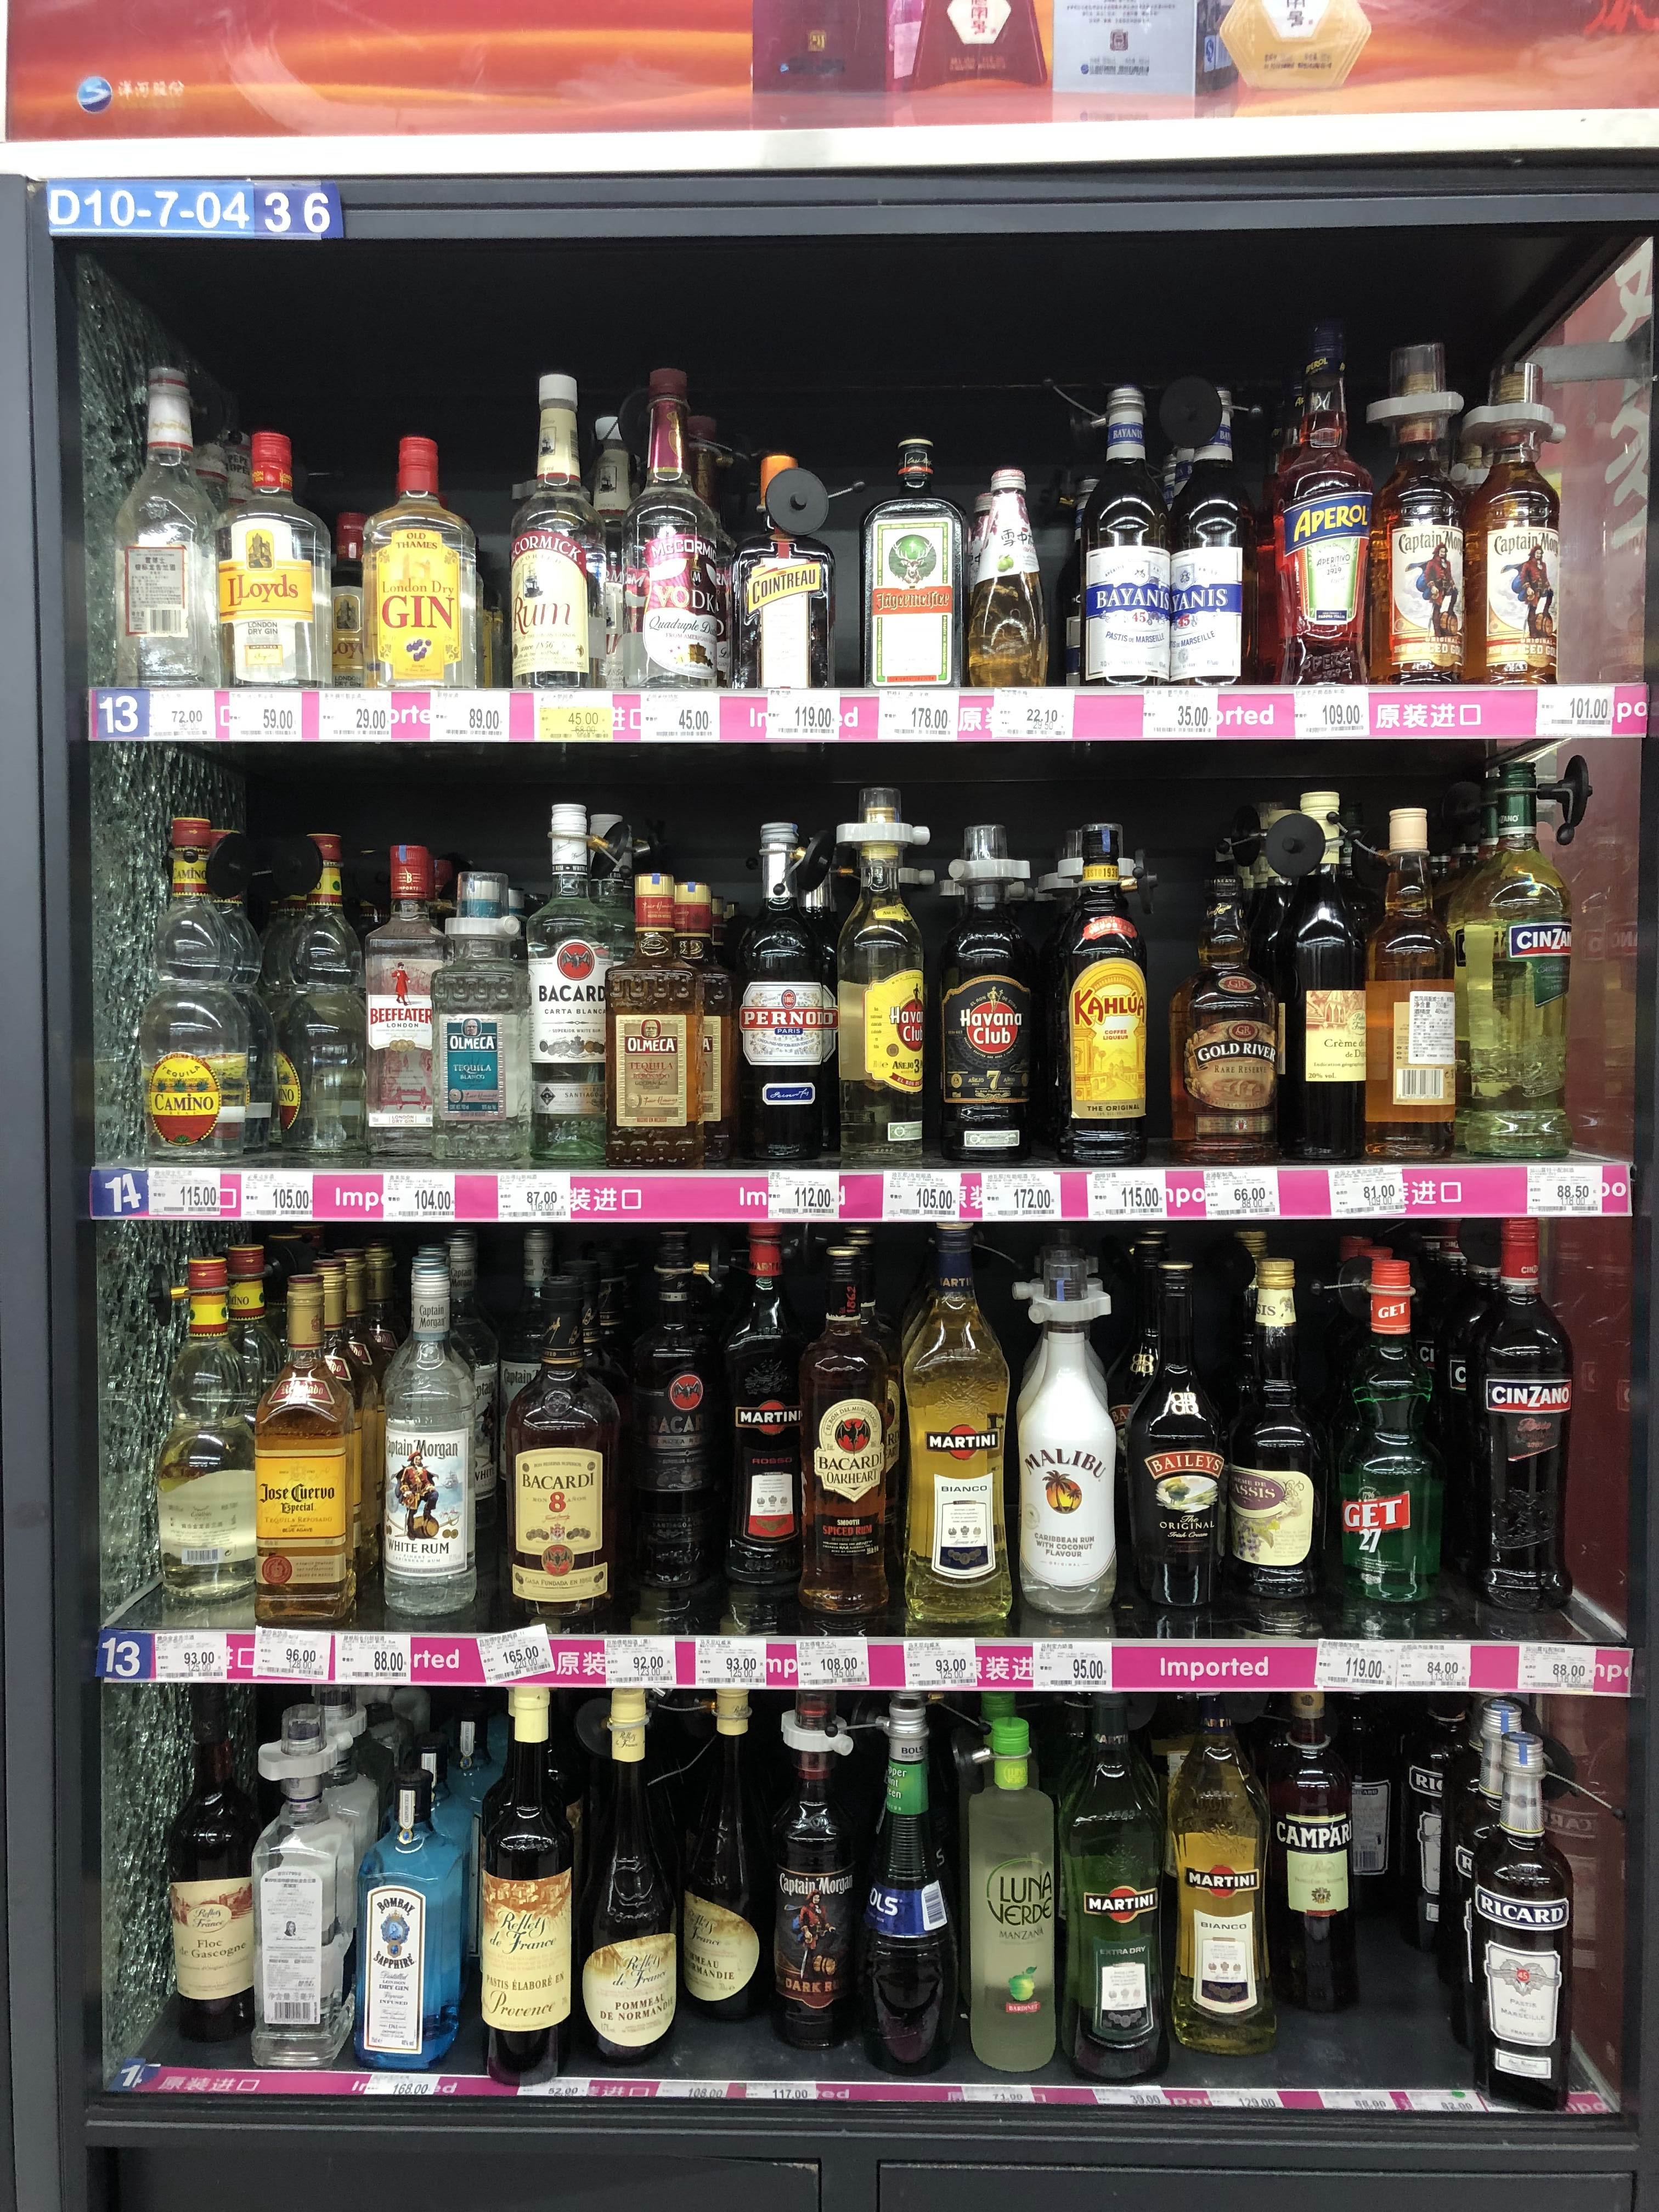bottle: (1464, 1219, 1582, 1630), (1051, 1677, 1168, 2080), (897, 1223, 1009, 1632), (1453, 761, 1567, 1153), (786, 1247, 897, 1641), (565, 1681, 676, 2067), (709, 1238, 816, 1641), (1014, 1231, 1119, 1632), (1337, 1258, 1445, 1641), (471, 1677, 573, 2080), (1164, 1693, 1272, 2069), (504, 1282, 617, 1639), (1474, 1745, 1582, 2109), (162, 1721, 267, 2095), (620, 1261, 723, 1641), (1457, 352, 1572, 686), (254, 1710, 359, 2076), (1227, 1252, 1326, 1637), (153, 1256, 256, 1625), (1124, 1263, 1227, 1630), (145, 820, 254, 1160), (1265, 791, 1366, 1158), (375, 1268, 477, 1629), (859, 1691, 953, 2080), (1272, 324, 1371, 690), (838, 780, 932, 1165), (760, 1688, 859, 2050), (261, 826, 366, 1157), (530, 806, 626, 1167), (727, 826, 828, 1165), (497, 376, 601, 702), (620, 364, 720, 700), (934, 820, 1033, 1157), (357, 1778, 465, 2083), (673, 1683, 769, 2024), (254, 1280, 349, 1625), (1377, 343, 1471, 688), (117, 362, 213, 697), (1363, 806, 1455, 1153), (1164, 876, 1274, 1160), (1051, 826, 1143, 1162), (1272, 1693, 1361, 2013), (850, 439, 960, 697), (359, 840, 446, 1158), (1080, 388, 1169, 695), (434, 871, 526, 1163), (216, 427, 317, 691), (1168, 385, 1253, 693), (371, 437, 471, 700), (734, 448, 835, 698), (608, 874, 687, 1170), (969, 472, 1044, 702)
others: (953, 1717, 1056, 2071)
